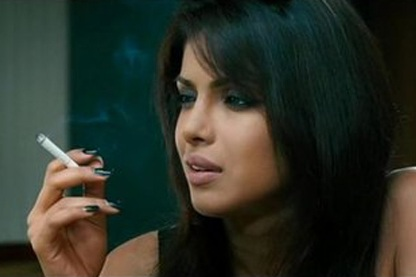cigarette: (34, 131, 79, 168)
